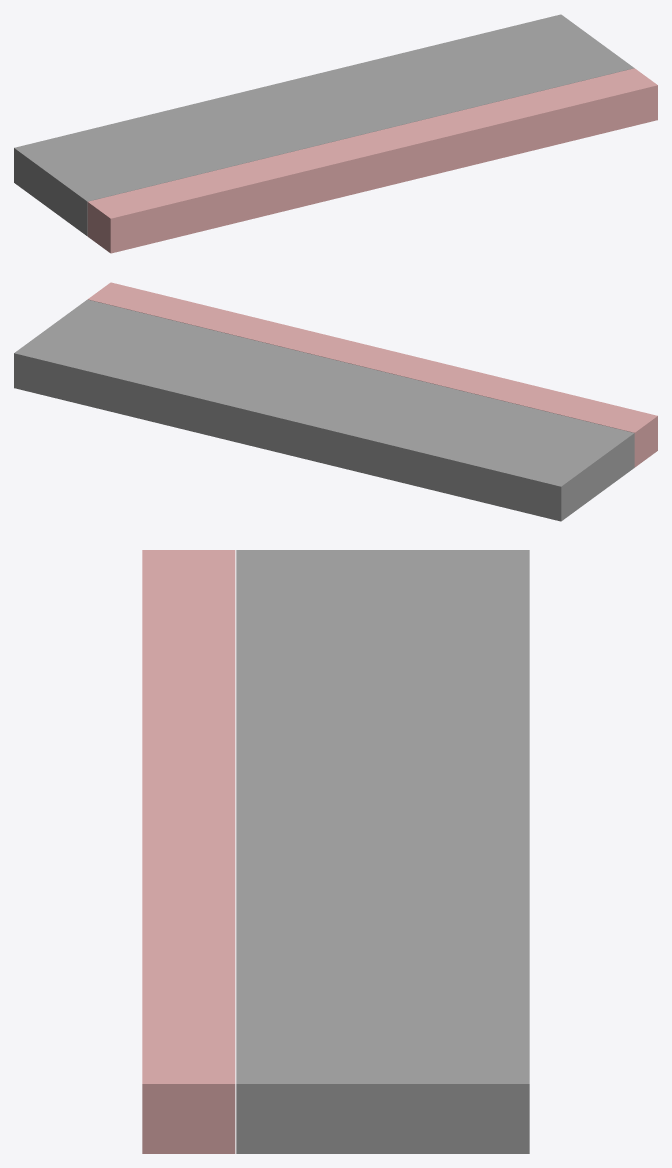
Rendered from side_walk.fbx.
3 renders of one model, top to bottom at view 1: azimuth 30°, elevation 25°; view 2: azimuth 150°, elevation 25°; view 3: azimuth 270°, elevation 25°, orthographic. The views are drawn at different scales.
Visible parts, largest first — view 1: pCube1, pCube2; view 2: pCube1, pCube2; view 3: pCube1, pCube2.
Part boxes in pixels (x1,y1,x2,y2): pCube1: (14,14,634,236); pCube2: (87,68,657,253); pCube1: (14,299,634,521); pCube2: (88,282,657,467); pCube1: (236,550,529,1153); pCube2: (142,550,235,1153).
Bounding box in the file's own units: 500 × 30.48 × 153.
